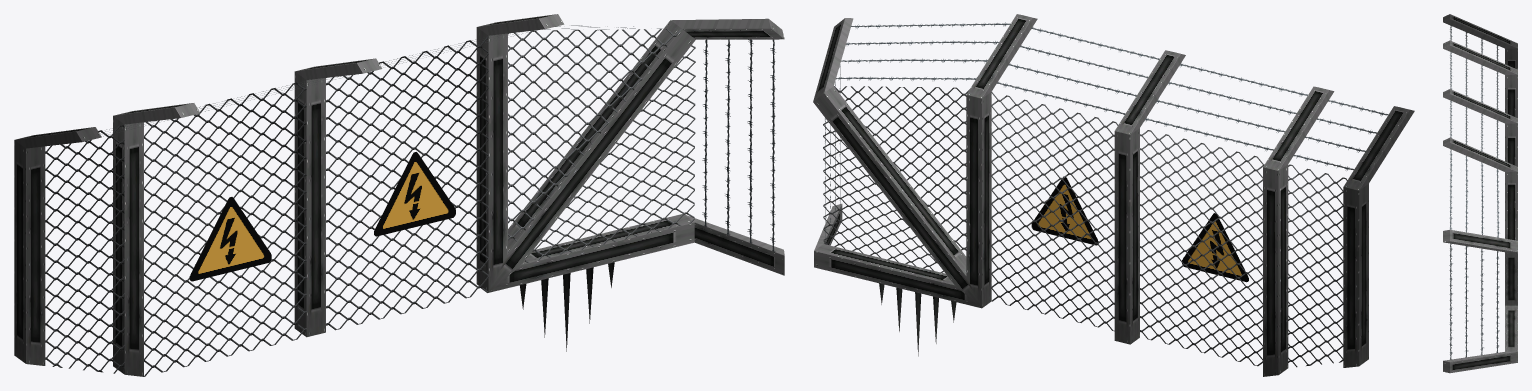
The model's file is FenceBlocking1.glb.
3 views of the same model, side by side, from view 1: azimuth 30°, elevation 25°; view 2: azimuth 150°, elevation 25°; view 3: azimuth 270°, elevation 25° (orthographic). The views are drawn at different scales.
Visible parts, largest first — view 1: FENCEBLOCKING1; view 2: FENCEBLOCKING1; view 3: FENCEBLOCKING1.
Boxes of the visible parts, <box> form: FENCEBLOCKING1: <box>14,14,784,376</box>; FENCEBLOCKING1: <box>813,14,1414,376</box>; FENCEBLOCKING1: <box>1443,14,1517,373</box>.
Size of the model in its own units: 8.64 by 4.62 by 1.45.
4 materials, 4 textured.
